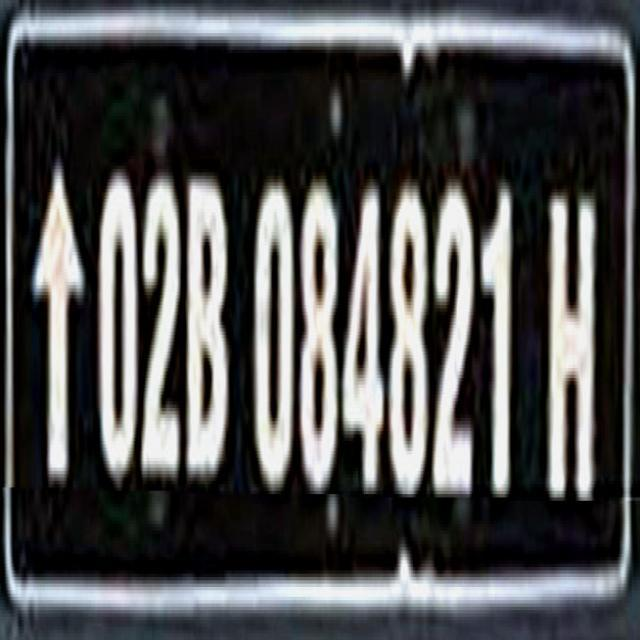License_Plate: (0, 10, 640, 618)
